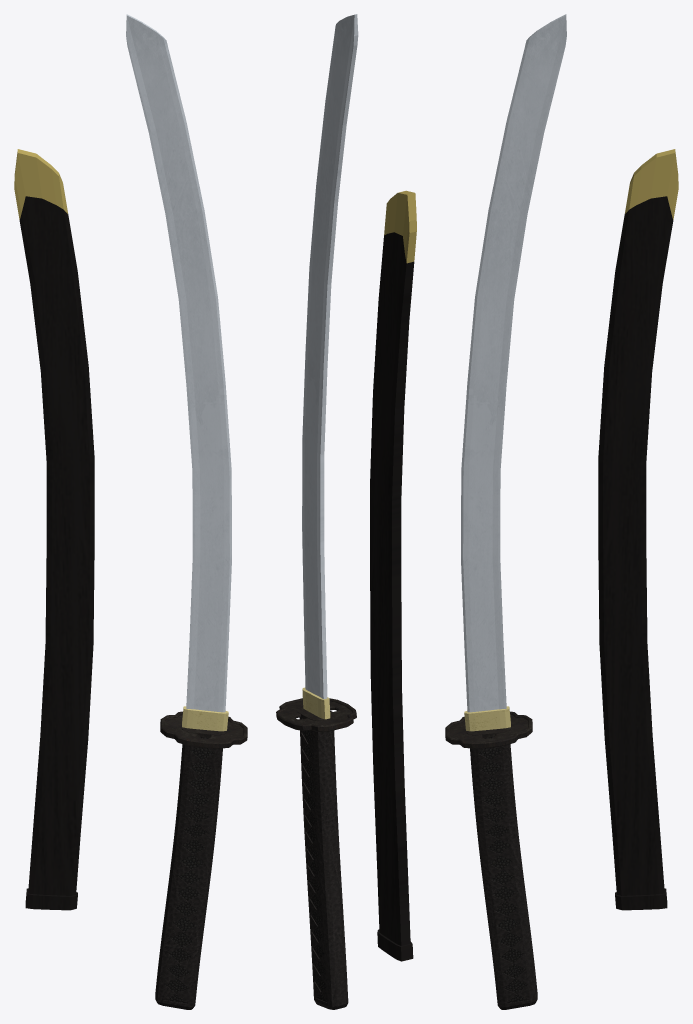
The model's file is 무기_카타나.fbx.
3 renders of one model, left to right at view 1: azimuth 90°, elevation 25°; view 2: azimuth 210°, elevation 25°; view 3: azimuth 270°, elevation 25°, orthographic.
Visible parts, largest first — view 1: 카타나, 카타나검집; view 2: 카타나, 카타나검집; view 3: 카타나, 카타나검집.
Part boxes in pixels (x1=…): 카타나: x1=126, y1=14, x2=247, y2=1009; 카타나검집: x1=14, y1=149, x2=94, y2=910; 카타나: x1=276, y1=14, x2=358, y2=1009; 카타나검집: x1=370, y1=190, x2=416, y2=961; 카타나: x1=445, y1=14, x2=566, y2=1009; 카타나검집: x1=598, y1=149, x2=678, y2=910.
Size of the model in its own units: 4.08 by 60.79 by 12.95.
